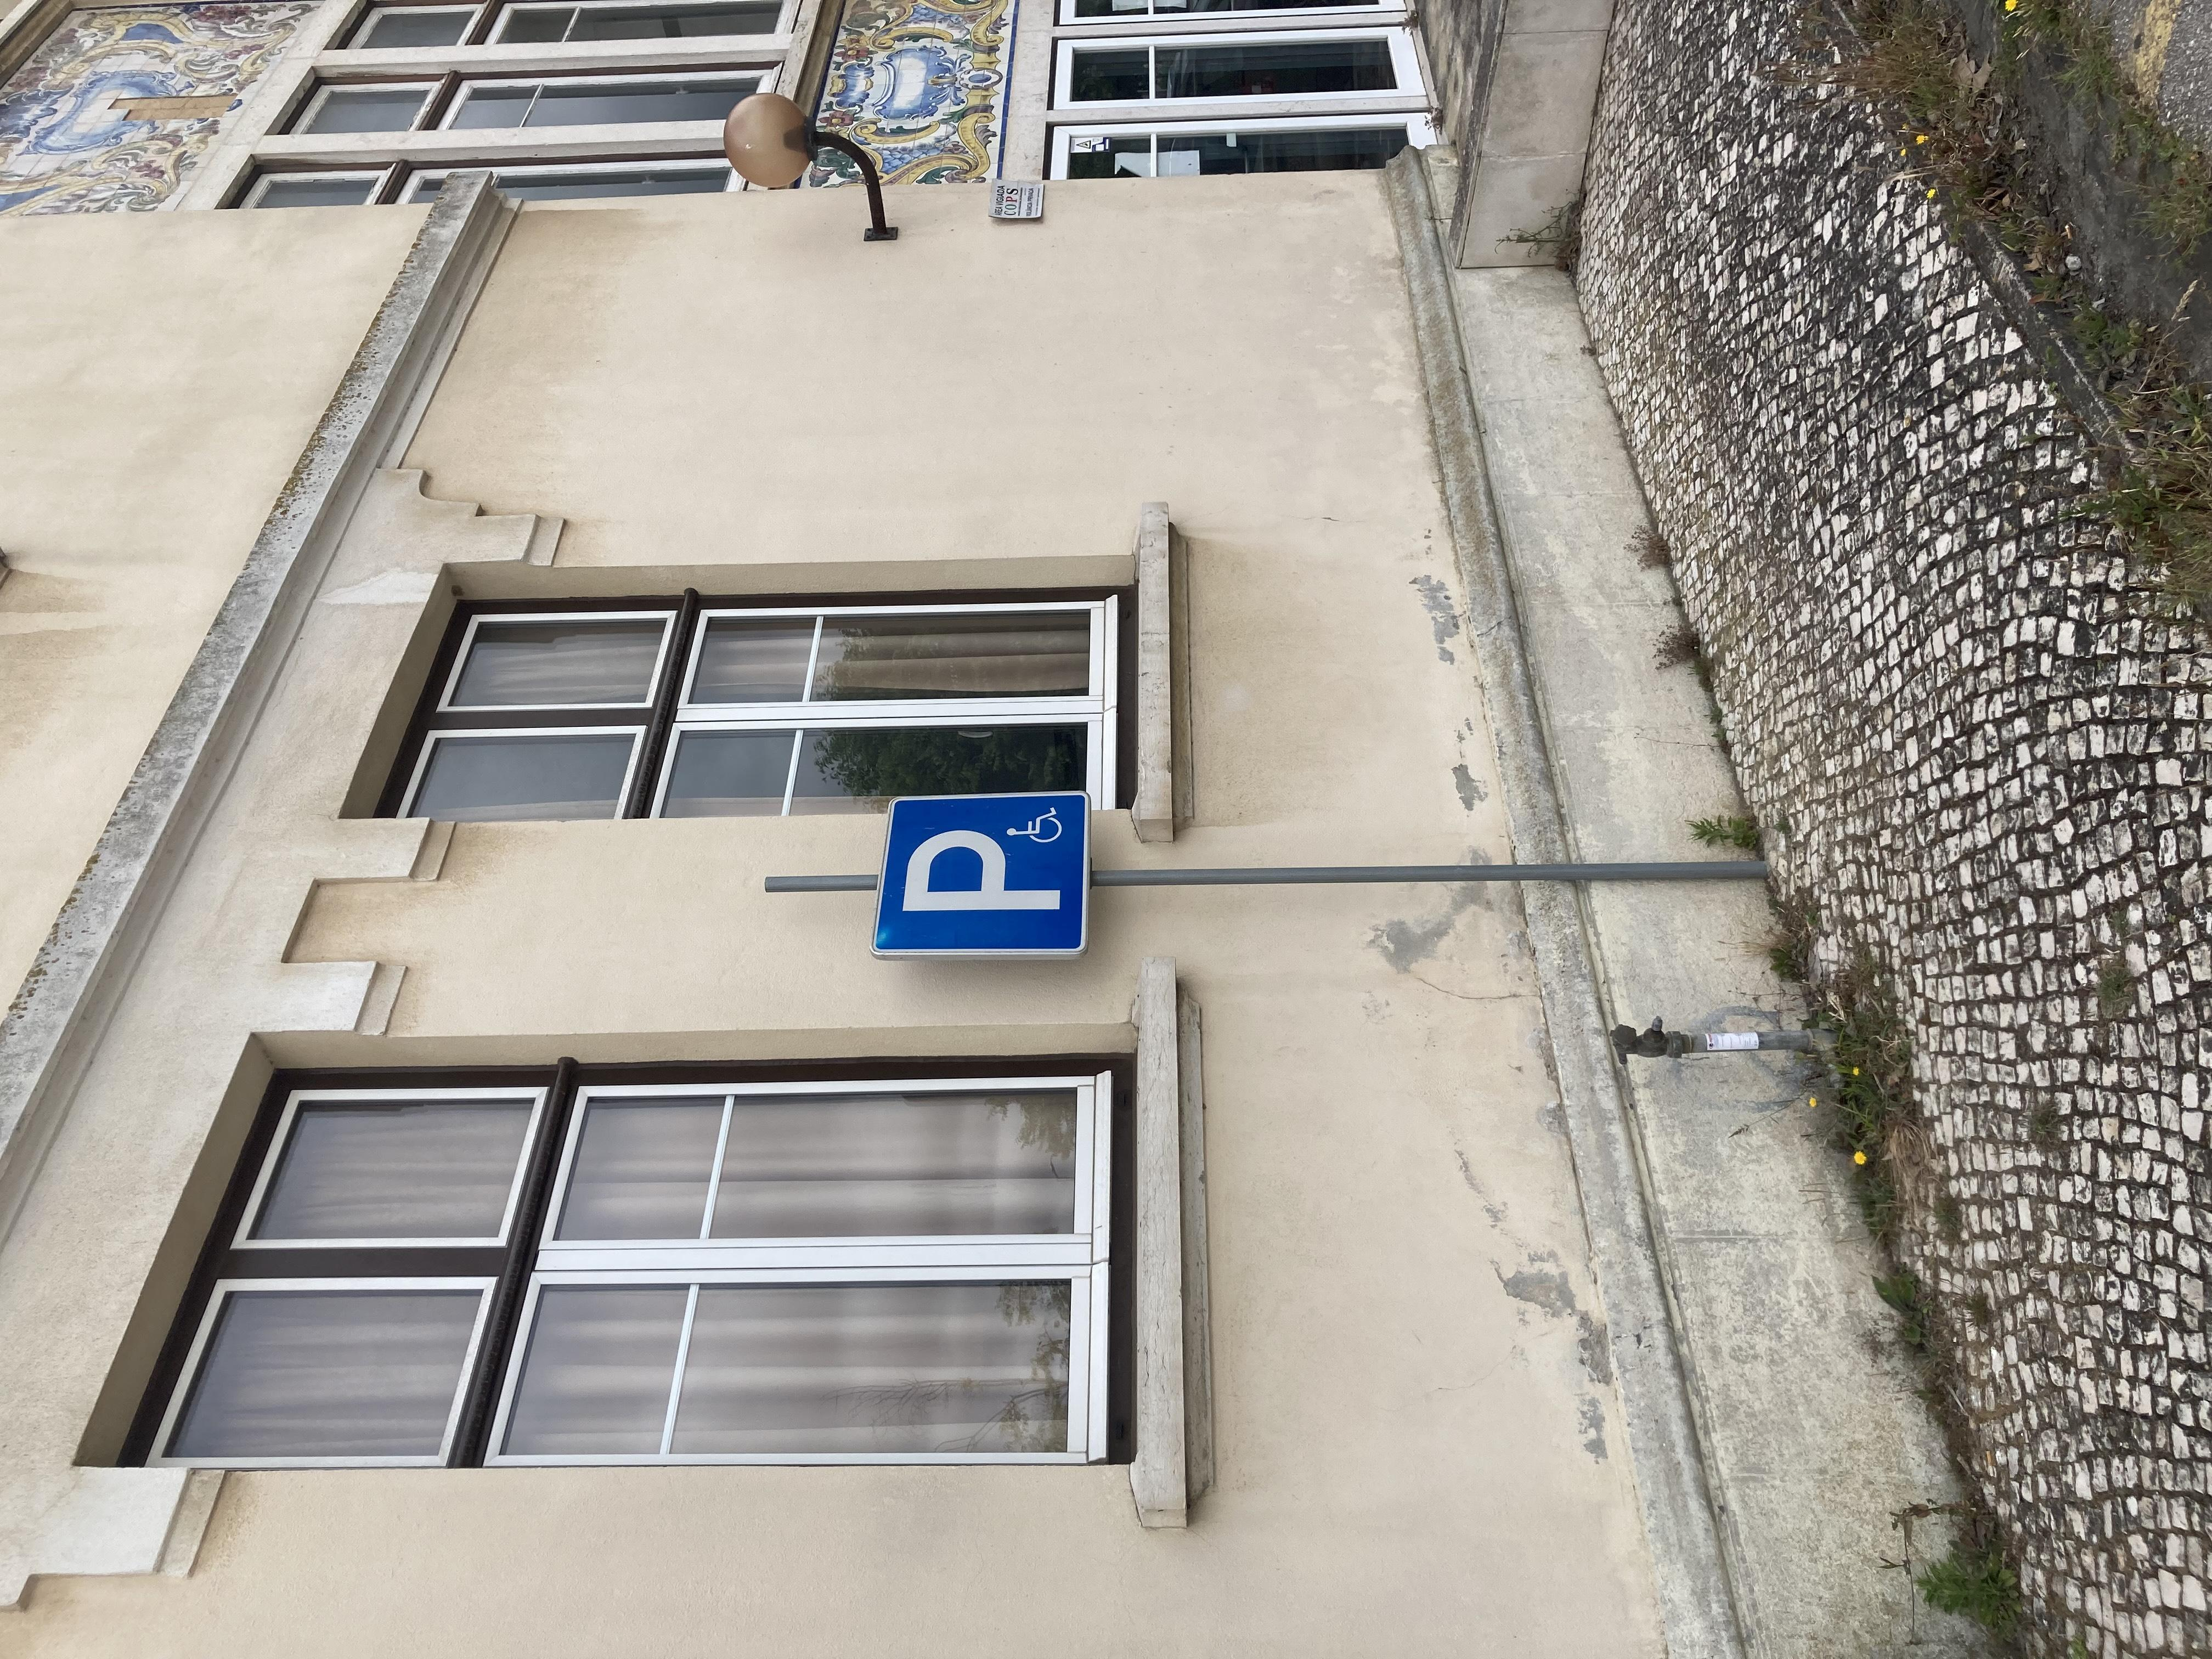Estacionamento autorizado: (944, 650, 1157, 819)
